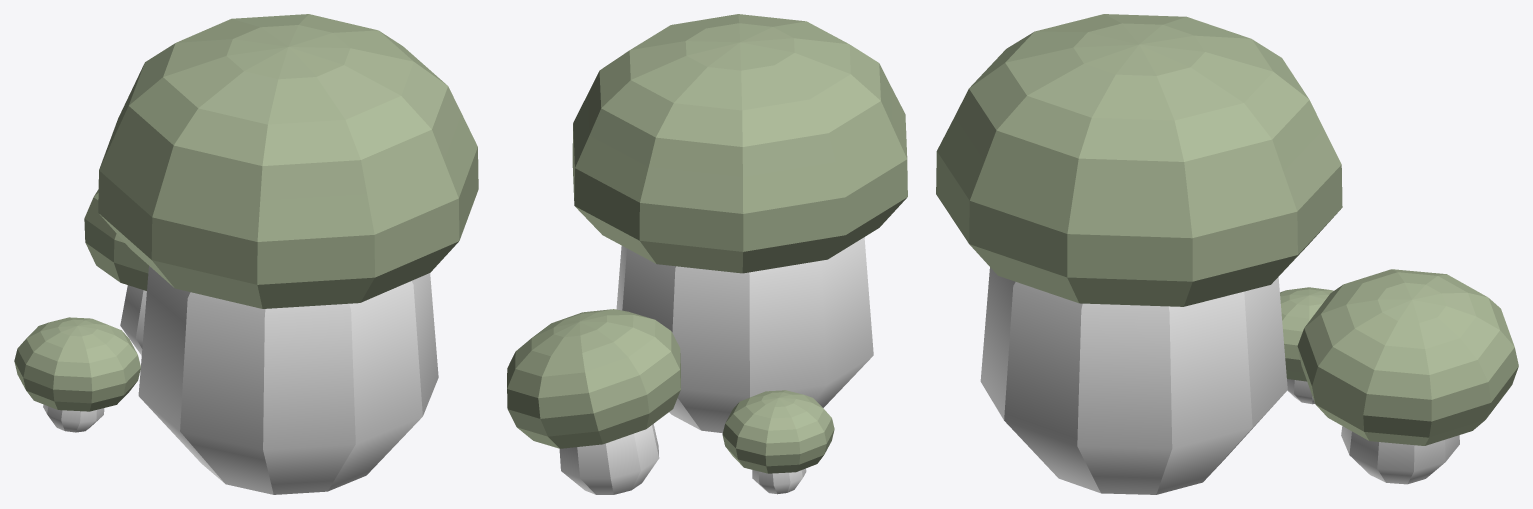
File: Mushroom1.fbx
The picture shows the model from 3 angles, left to right: view 1: azimuth 30°, elevation 25°; view 2: azimuth 150°, elevation 25°; view 3: azimuth 270°, elevation 25°; orthographic projection. The views are drawn at different scales.
Parts seen in each view (by area): view 1: Mush1_Lid, Mush1_Stem; view 2: Mush1_Lid, Mush1_Stem; view 3: Mush1_Lid, Mush1_Stem.
Part boxes in pixels (x1,y1,x2,y2): Mush1_Lid: (14,14,478,411); Mush1_Stem: (43,266,438,494); Mush1_Lid: (507,14,907,473); Mush1_Stem: (559,237,873,494); Mush1_Lid: (936,14,1518,445); Mush1_Stem: (980,267,1459,494).
Bounding box in the file's own units: 2.02 × 2.31 × 2.91.
